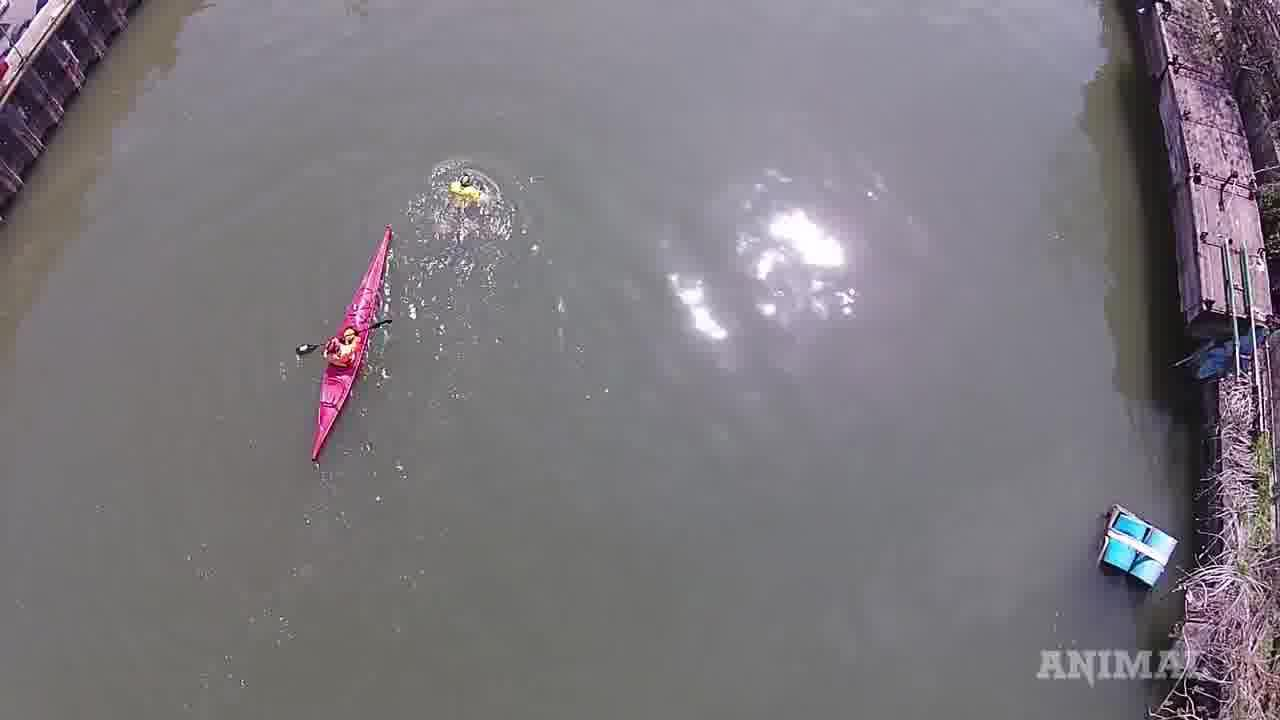human: (427, 151, 511, 227)
